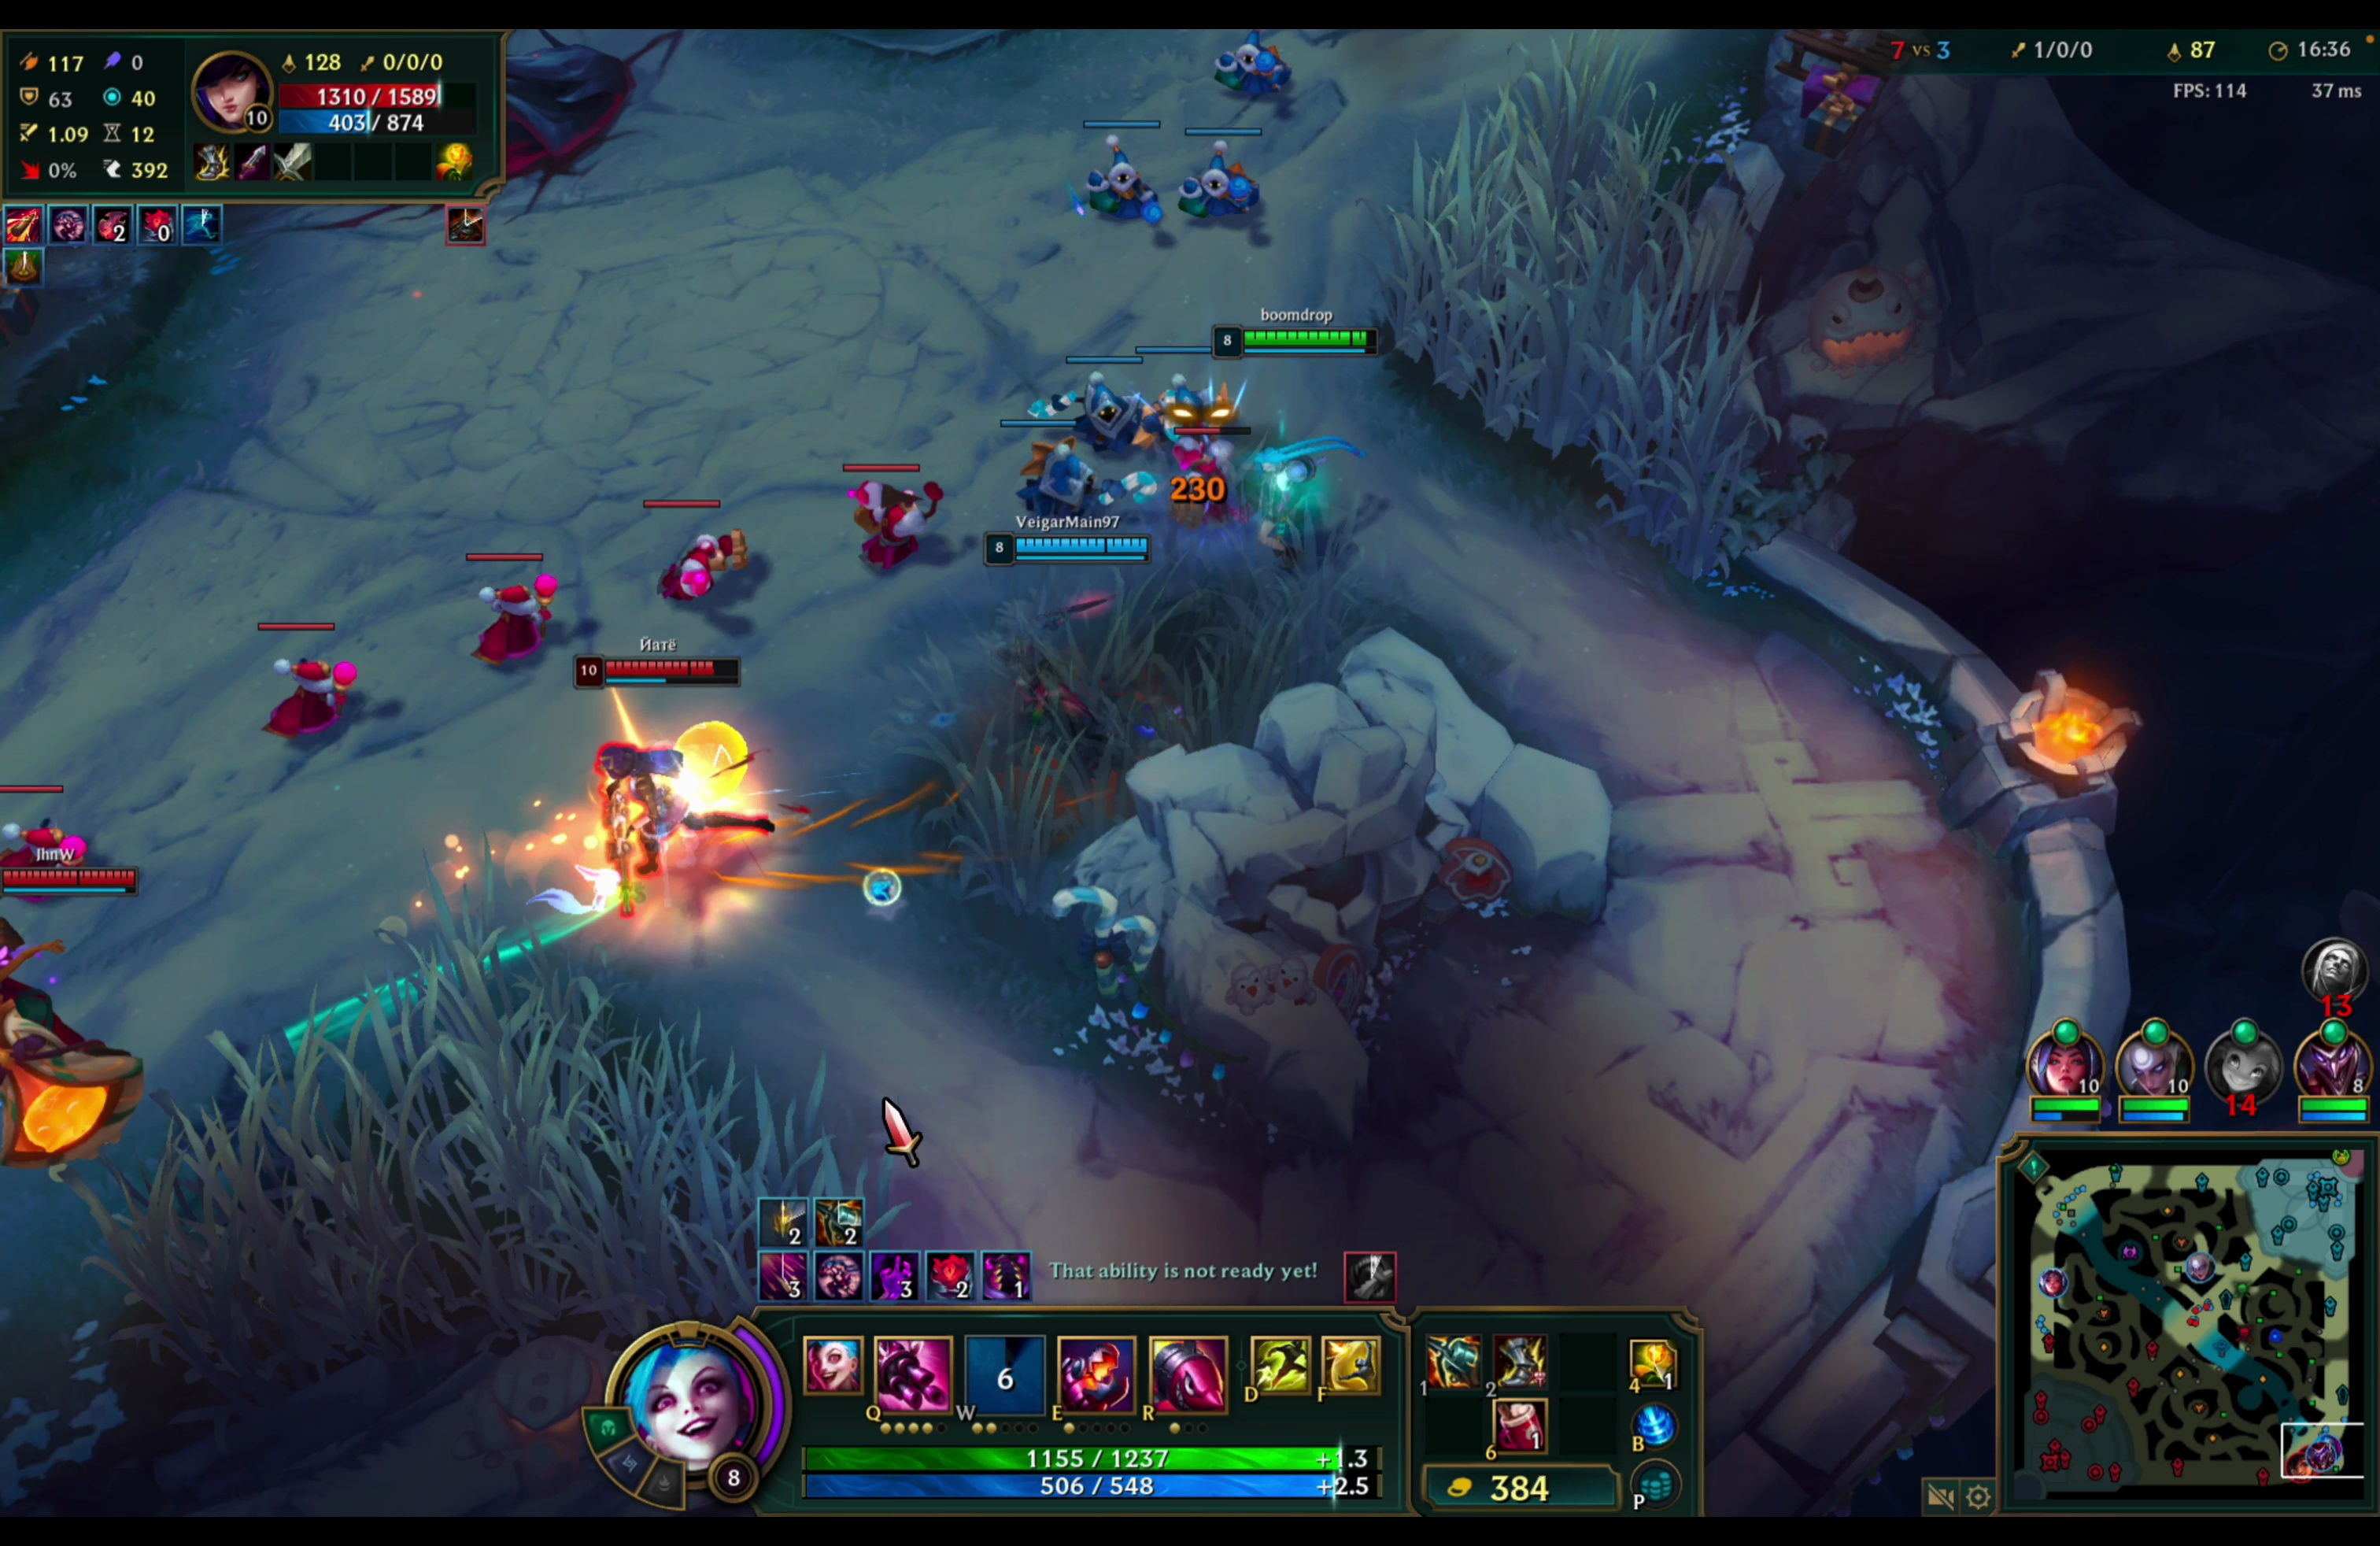JINX_W_IMPACT: (1152, 295, 1403, 538)
